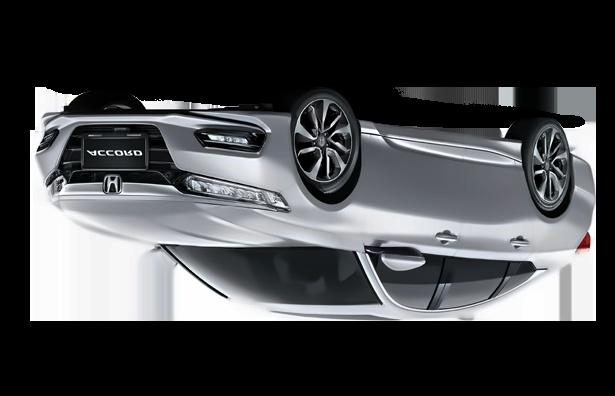Car hood: (56, 200, 366, 252)
Driver-s door - -F-R-: (359, 113, 471, 317)
Fender - -F-R-: (273, 152, 377, 265)
Fender - -R-R-: (502, 173, 590, 285)
Front bumper: (31, 106, 300, 200)
Headlight - -R-: (183, 170, 289, 213)
Passenger-s door - -R-R-: (421, 114, 522, 319)
Rear bumper: (566, 151, 595, 239)
Rear light - -R-: (574, 231, 593, 254)
Side bumper - -R-: (357, 111, 529, 192)
Side mirror - -R-: (361, 241, 427, 273)
